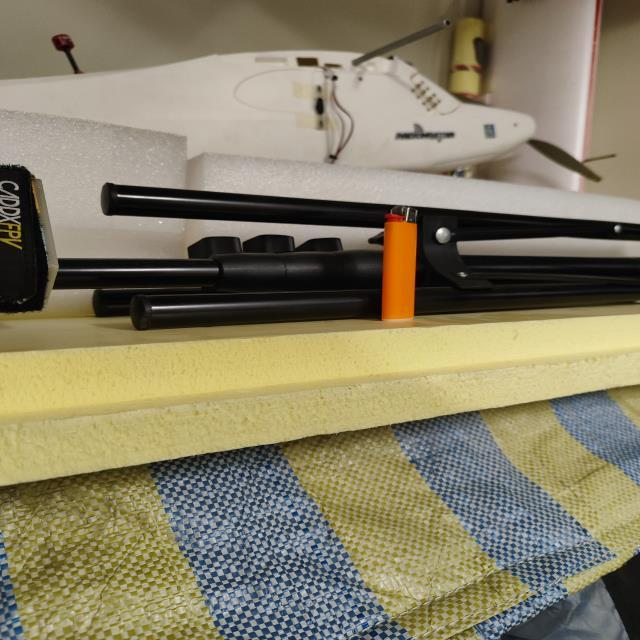lighter: (381, 208, 416, 320)
